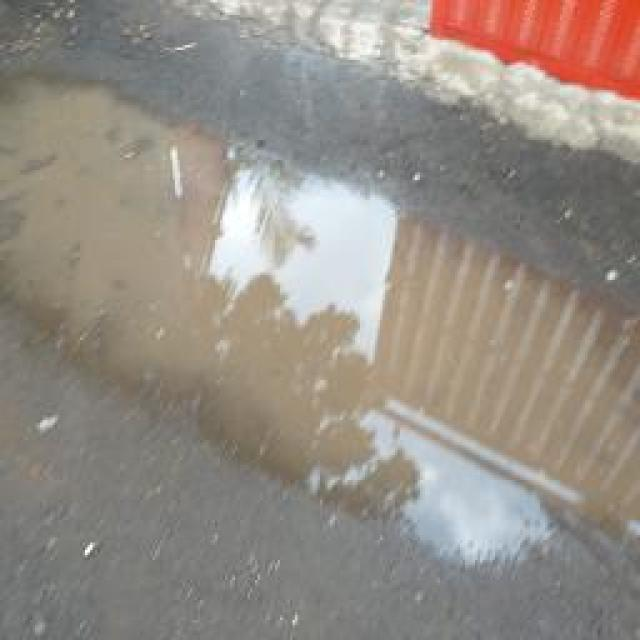puddle: (5, 87, 640, 547)
